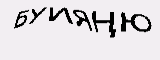Б: (13, 8, 29, 29)
И: (47, 5, 72, 27)
У: (28, 5, 46, 25)
Ю: (118, 10, 153, 36)
Я: (70, 7, 94, 33)
Ң: (90, 10, 117, 39)
